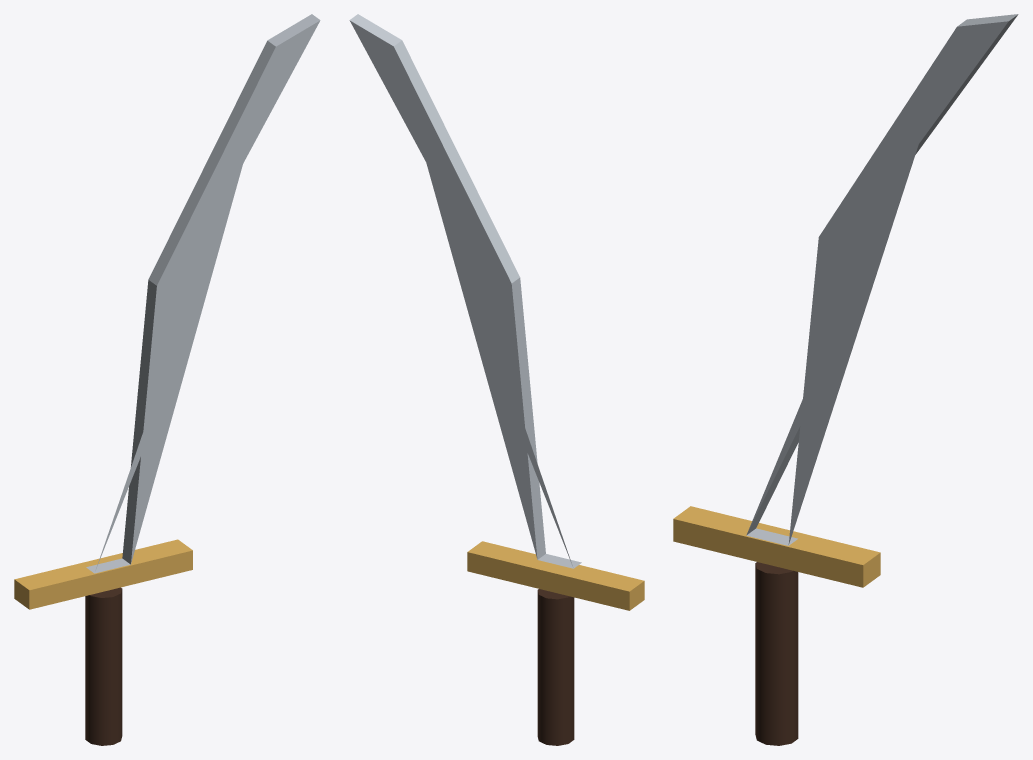
The model's file is ethiopia-shotel.glb.
The picture shows the model from 3 angles, left to right: view 1: azimuth 30°, elevation 25°; view 2: azimuth 150°, elevation 25°; view 3: azimuth 330°, elevation 25°; orthographic projection. The views are drawn at different scales.
Visible parts, largest first — view 1: CurvedBlade, Grip, Guard; view 2: CurvedBlade, Grip, Guard; view 3: CurvedBlade, Grip, Guard.
Boxes of the visible parts, left/top/right/bottom form: CurvedBlade: left=86, top=14, right=320, bottom=573; Grip: left=85, top=587, right=122, bottom=745; Guard: left=14, top=539, right=192, bottom=609; CurvedBlade: left=349, top=14, right=581, bottom=568; Grip: left=537, top=589, right=574, bottom=745; Guard: left=467, top=541, right=644, bottom=610; CurvedBlade: left=746, top=14, right=1018, bottom=545; Grip: left=755, top=562, right=798, bottom=745; Guard: left=673, top=506, right=880, bottom=587.
Size of the model in its own units: 0.39 by 0.865 by 0.044.
